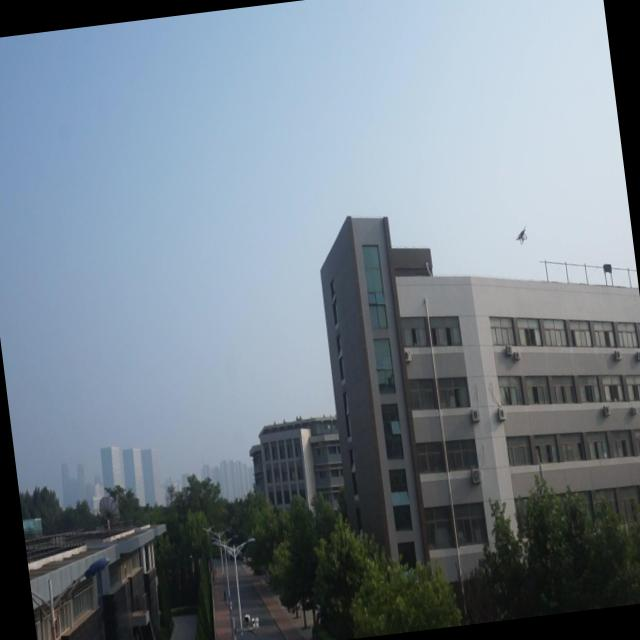drone: (511, 223, 532, 248)
